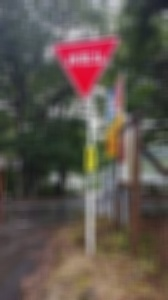Regulatory_sign_triangle: (49, 35, 125, 94)
